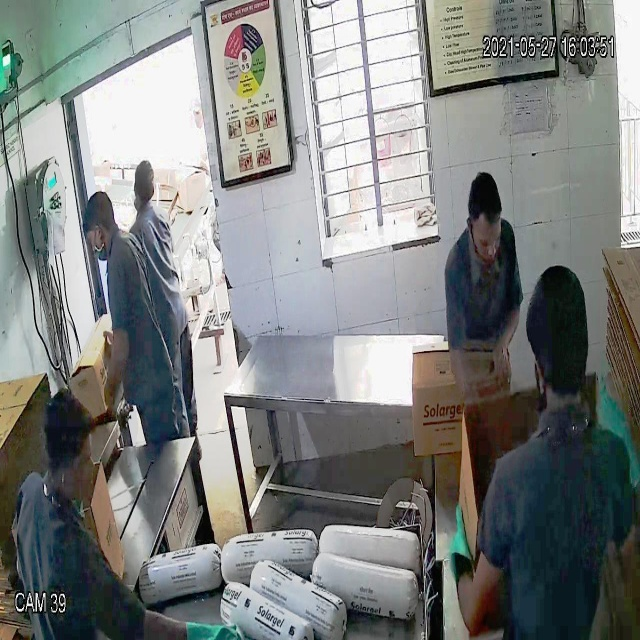Sin_gafas: (468, 220, 505, 258)
